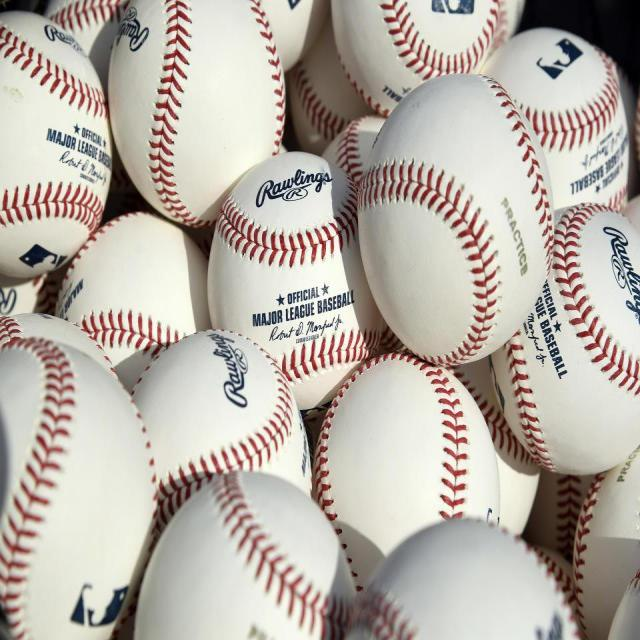baseball: (358, 74, 556, 366), (2, 309, 163, 636), (204, 151, 373, 406), (110, 2, 286, 228), (134, 470, 355, 636), (315, 350, 503, 534), (133, 325, 319, 492), (2, 12, 112, 281), (525, 196, 625, 479)
